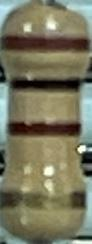Black: (10, 76, 82, 93)
Brown: (0, 34, 90, 52), (8, 120, 80, 138)
Side-Gold: (1, 190, 88, 213)
